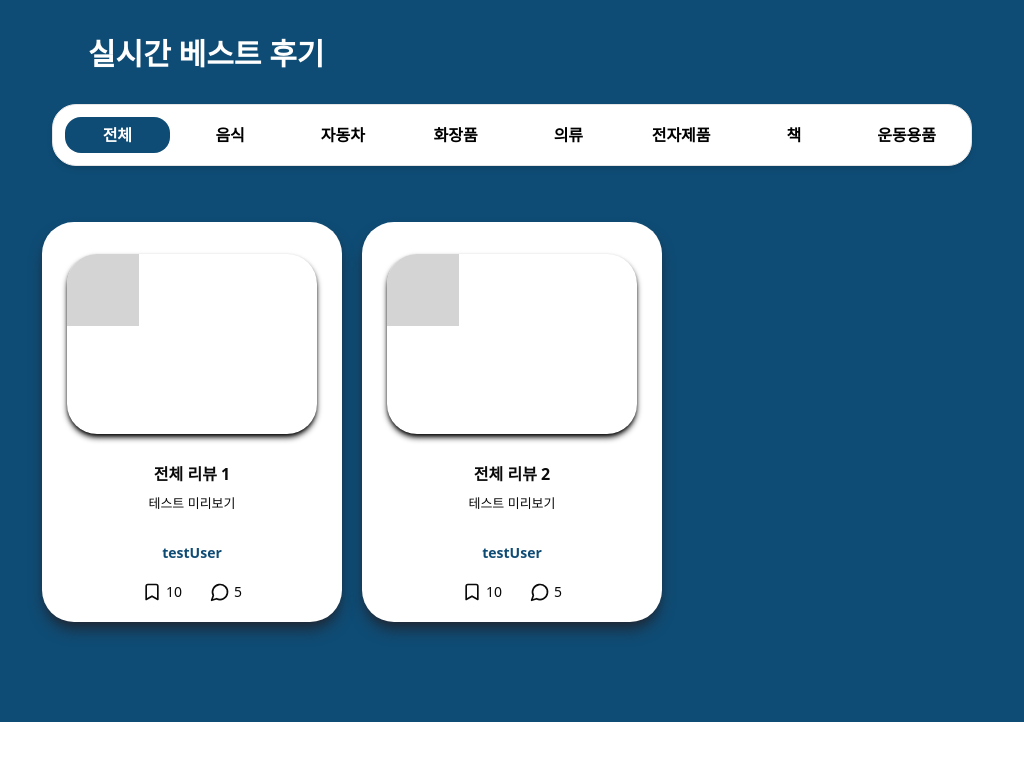
Test: src/features/reviews/best/ui/BestReviews.tsx › 통합 테스트 › 자동차 카테고리를 클릭하면 후기가 없다는 문구를 표시한다.
This screenshot has width=1024, height=768.
Click the button with aria-label "카테고리: 자동차". click: click(343, 135)
box: x1=290 y1=117 x2=395 y2=153
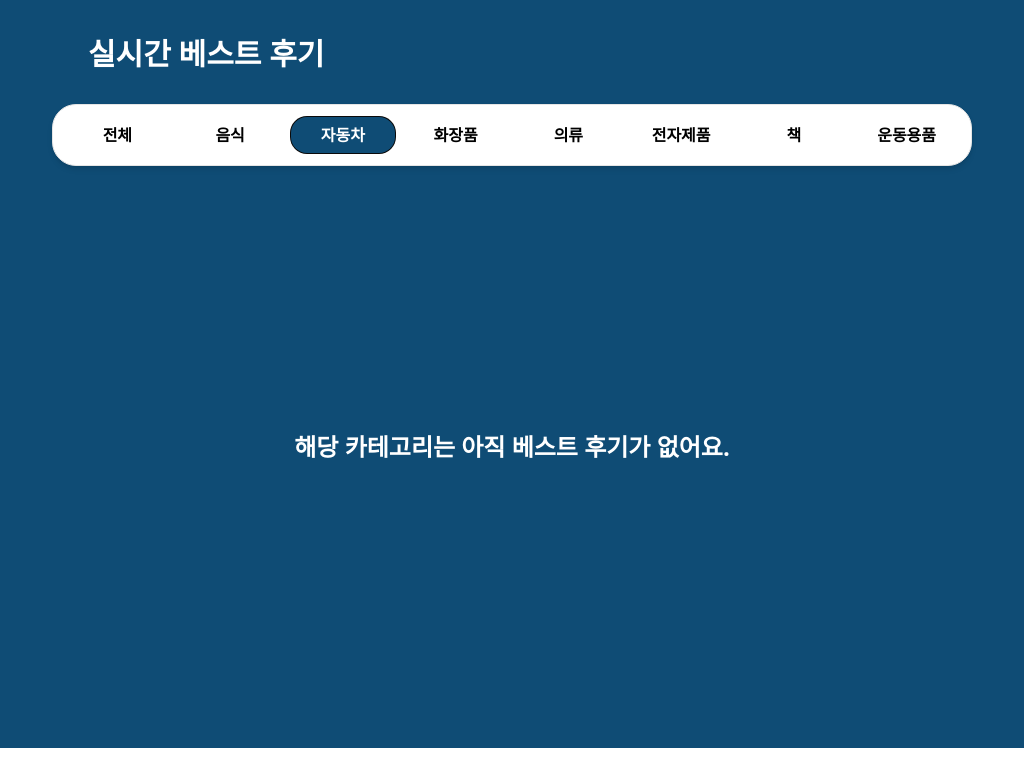
Expected: the text "해당 카테고리는 아직 베스트 후기가 없어요." is shown, x1=294 y1=431 x2=730 y2=463
